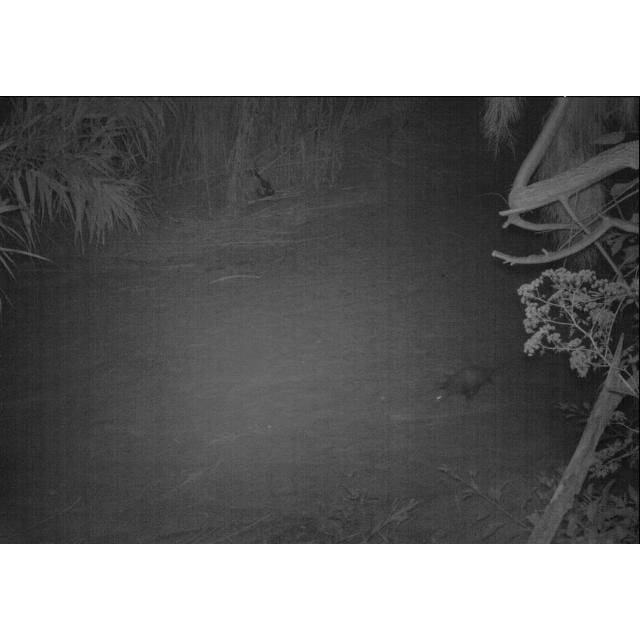animals: (430, 361, 500, 407)
